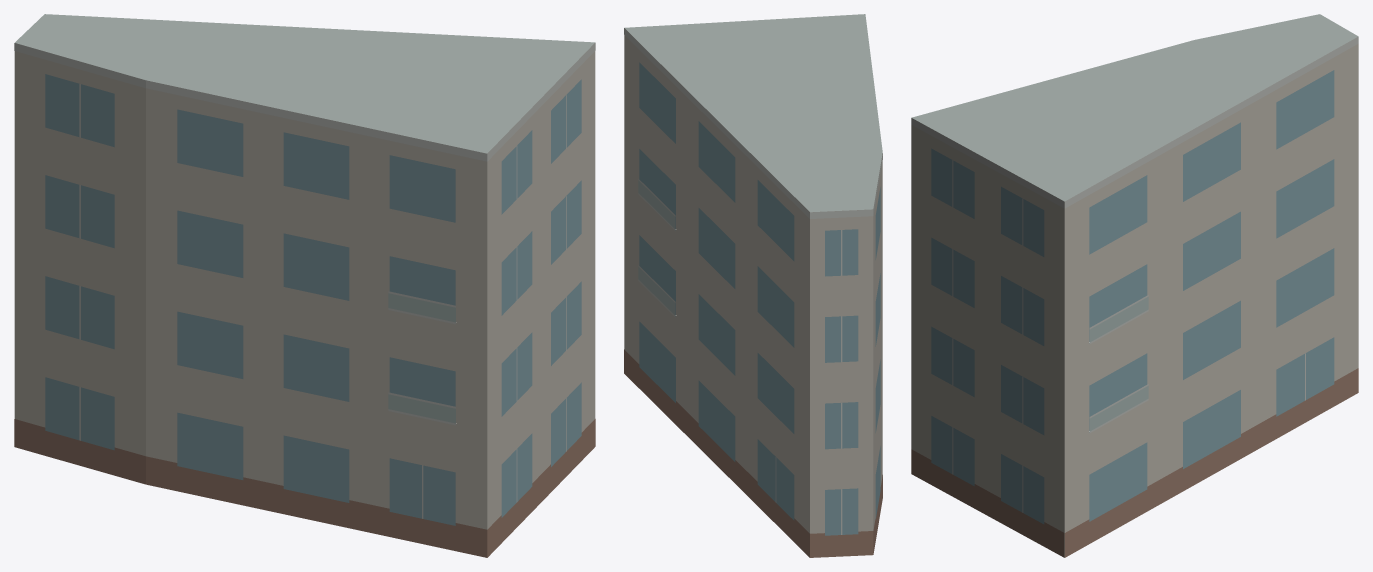
The model's file is survey-upis-32650509.glb.
The picture shows the model from 3 angles, left to right: view 1: azimuth 30°, elevation 25°; view 2: azimuth 150°, elevation 25°; view 3: azimuth 270°, elevation 25°; orthographic projection. The views are drawn at different scales.
Parts seen in each view (by area): view 1: survey-upis-32650509.tmp; view 2: survey-upis-32650509.tmp; view 3: survey-upis-32650509.tmp.
Part boxes in pixels (box(x1,y1,x2,y2)): survey-upis-32650509.tmp: box(14, 14, 595, 557); survey-upis-32650509.tmp: box(624, 14, 882, 557); survey-upis-32650509.tmp: box(911, 14, 1358, 557).
Bounding box in the file's own units: 13.84 × 12.25 × 13.95.
